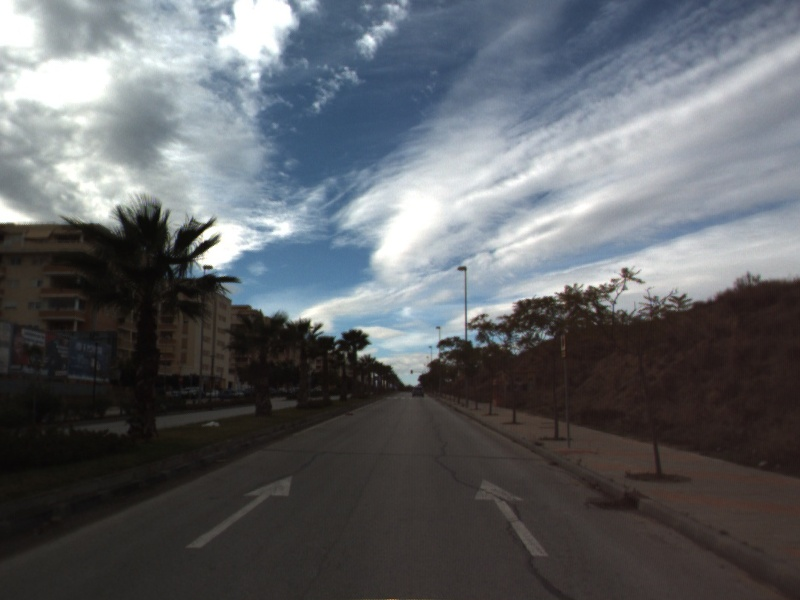STRAIGHT: (183, 473, 294, 550), (472, 476, 551, 558)
